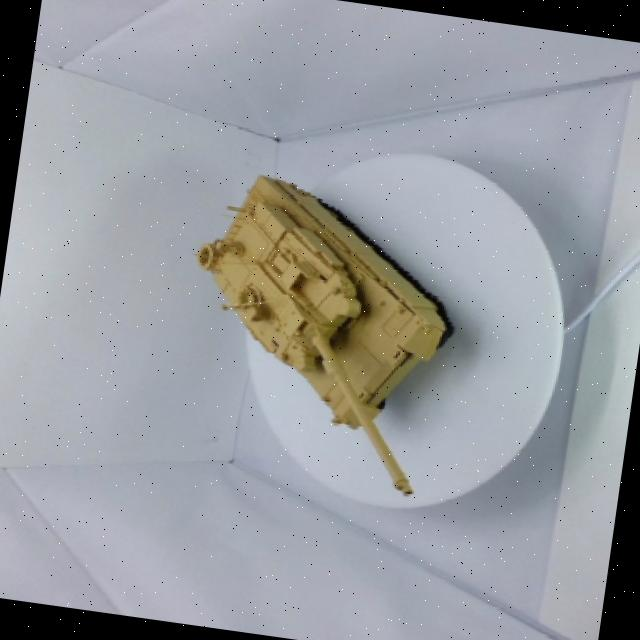korea tank: (144, 136, 502, 544)
